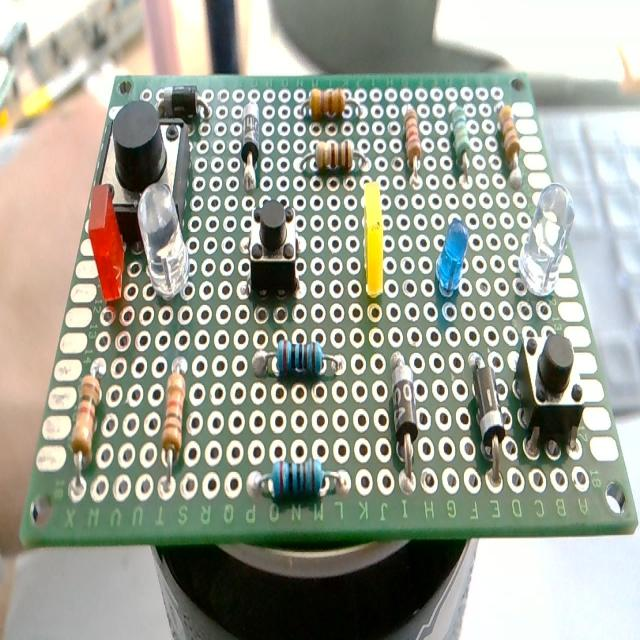diode: (390, 352, 422, 495), (470, 353, 505, 482), (240, 100, 260, 194), (154, 80, 199, 115)
led: (518, 182, 575, 298), (137, 182, 190, 302), (87, 182, 127, 306), (426, 220, 474, 306), (359, 183, 389, 301)
resistor: (246, 456, 350, 500), (69, 362, 102, 487), (160, 357, 188, 486), (252, 341, 342, 380), (302, 143, 369, 178), (497, 104, 523, 188), (448, 105, 472, 178), (404, 103, 423, 188), (307, 87, 346, 119)
switch: (100, 110, 188, 256), (516, 330, 586, 454), (248, 197, 301, 298)
